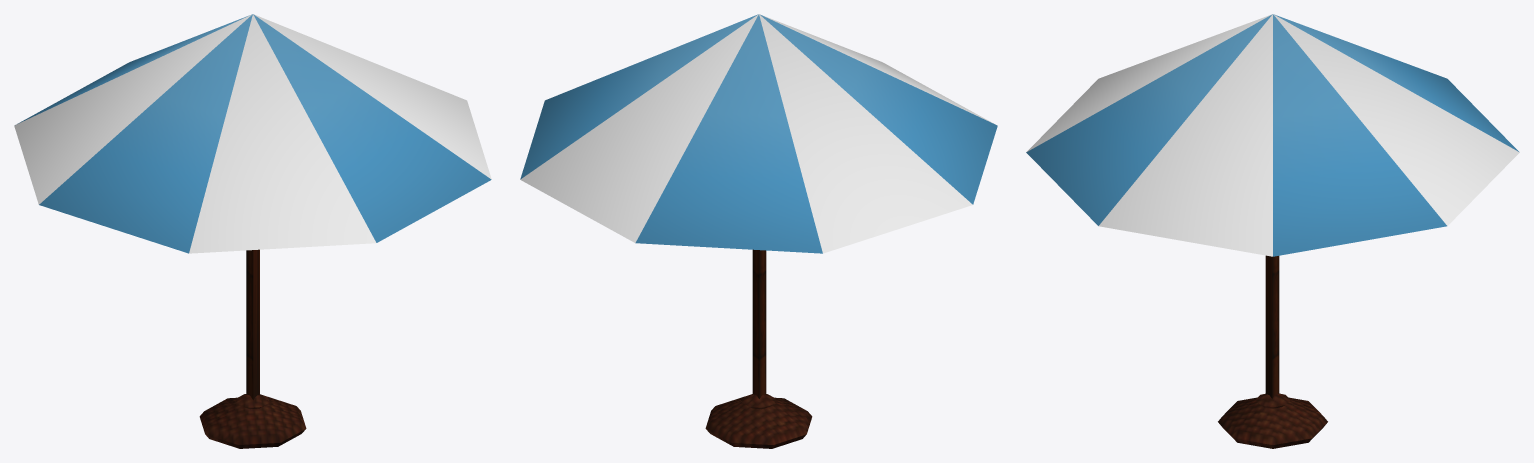
Rendered from Rattan_BeachUnmbrella_03.fbx.
3 renders of one model, left to right at view 1: azimuth 30°, elevation 25°; view 2: azimuth 150°, elevation 25°; view 3: azimuth 270°, elevation 25°, orthographic.
Parts seen in each view (by area): view 1: Rattan_BeachUnmbrella_03; view 2: Rattan_BeachUnmbrella_03; view 3: Rattan_BeachUnmbrella_03.
Boxes of the visible parts, x1,y1,x2,y2 form: Rattan_BeachUnmbrella_03: (14,14,491,448); Rattan_BeachUnmbrella_03: (520,14,997,448); Rattan_BeachUnmbrella_03: (1026,14,1519,448).
Size of the model in its own units: 1.06 by 0.9791 by 1.06.
